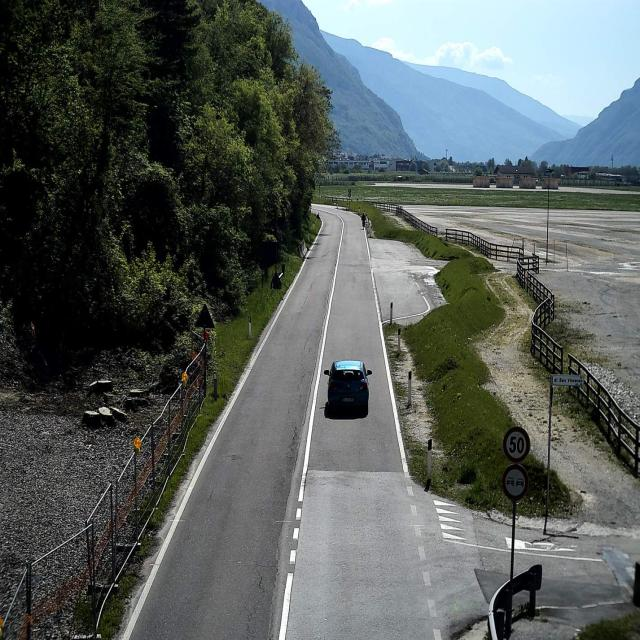car: (324, 359, 372, 413)
